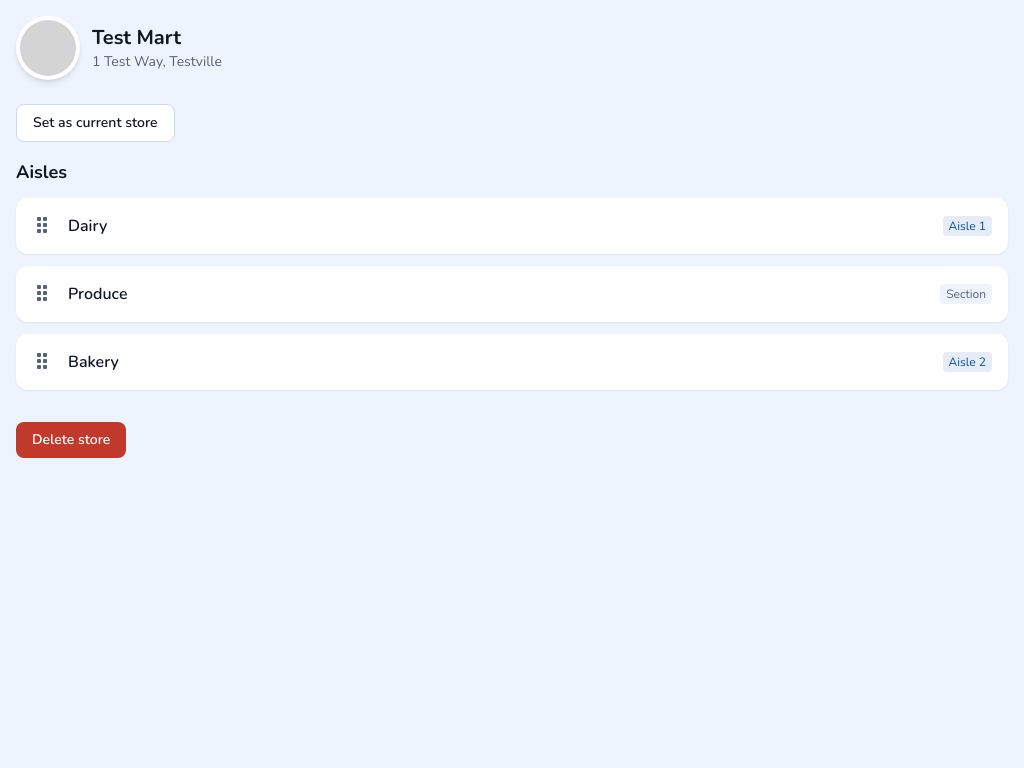
Test case: StoreDetailRoute › shows a delete control for a user store and opens the confirm dialog without deleting
The image size is (1024, 768).
Check: the heading "Test Mart" is shown, box [92,24,181,51]
Click the button "Delete store". click: x=71, y=440
box: [16,422,126,458]
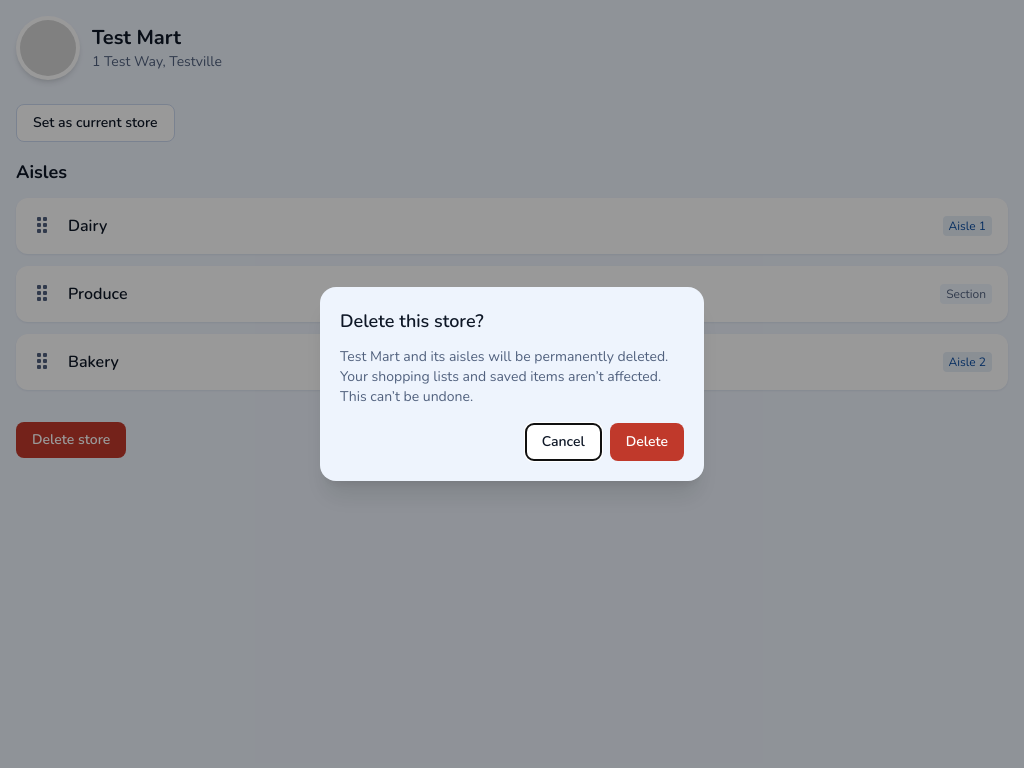
Check: the dialog is shown, box [320,287,704,481]
# Cancel closes the dialog and leaves the store in place.
Click the button "Cancel". click: x=563, y=442
box: [525,423,602,461]
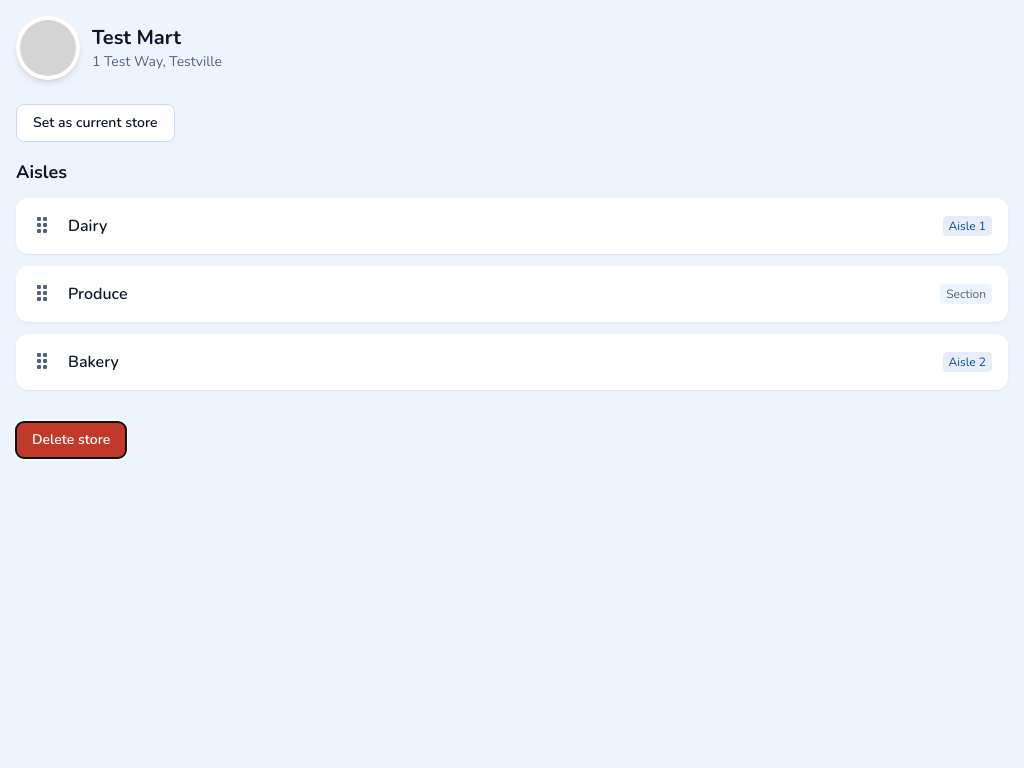
Check: the dialog is gone
